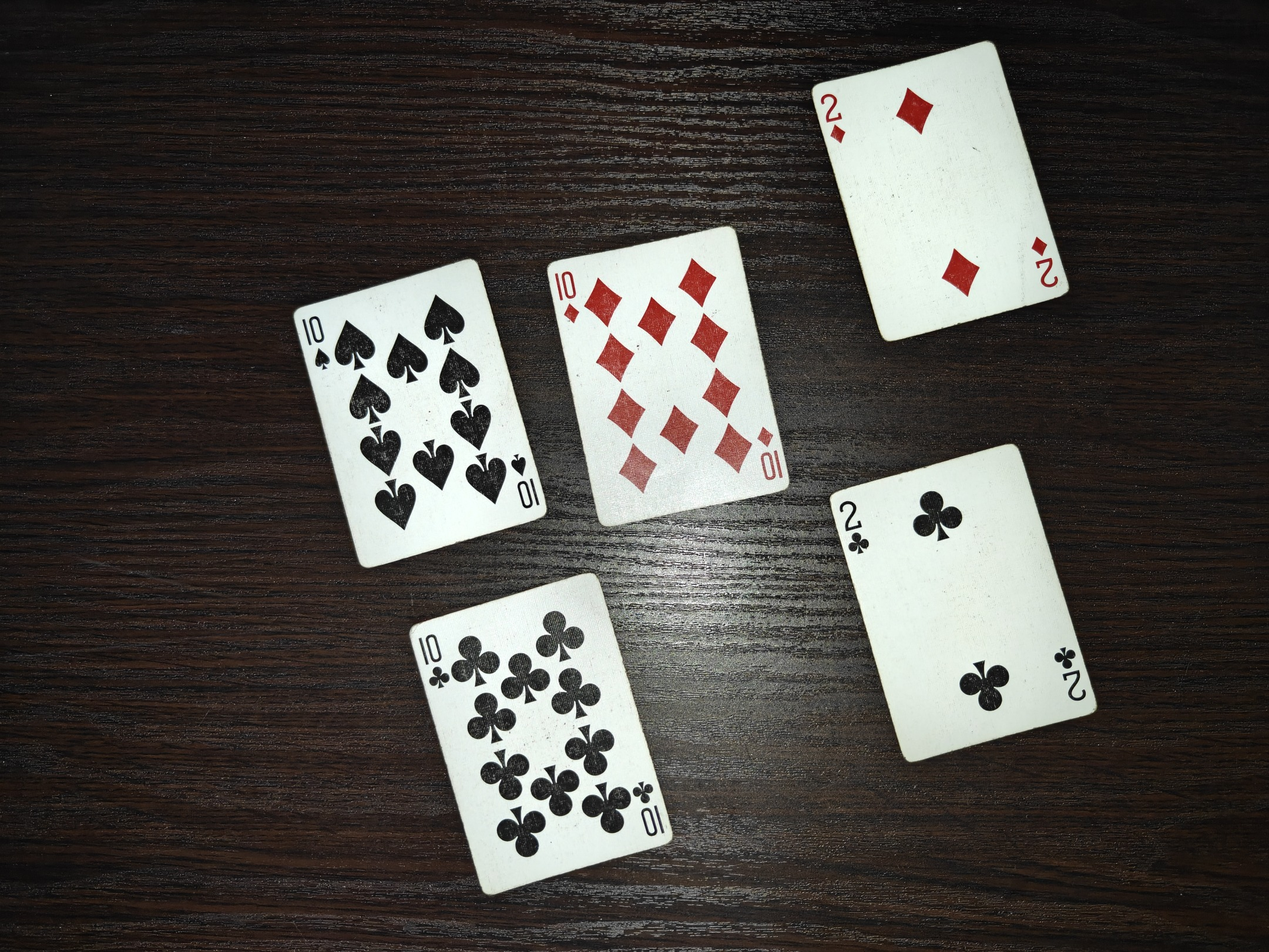10C: (408, 572, 674, 895)
10D: (546, 224, 793, 529)
10S: (294, 258, 548, 566)
2C: (830, 441, 1099, 762)
2D: (811, 40, 1071, 341)
